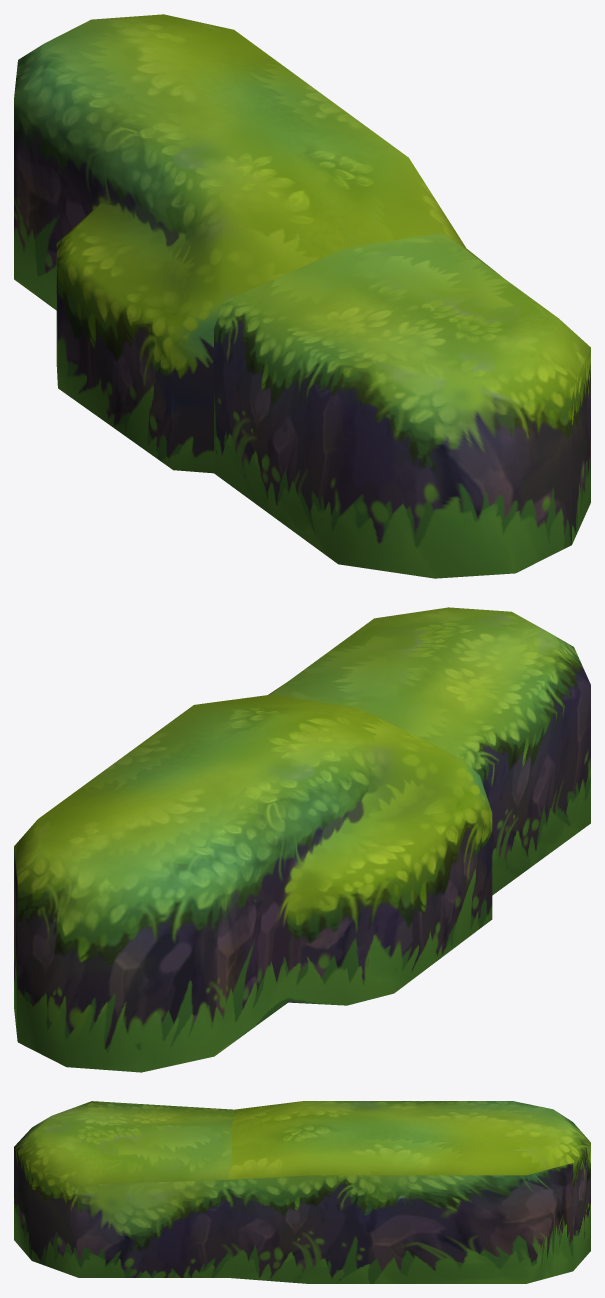
File: scenes_demo_roadside01.FBX
3 views of the same model, one above another, from view 1: azimuth 30°, elevation 25°; view 2: azimuth 150°, elevation 25°; view 3: azimuth 270°, elevation 25° (orthographic). The views are drawn at different scales.
Visible parts, largest first — view 1: scenes_demo_roadside01; view 2: scenes_demo_roadside01; view 3: scenes_demo_roadside01.
Boxes of the visible parts, left/top/right/bottom form: scenes_demo_roadside01: left=14, top=14, right=590, bottom=578; scenes_demo_roadside01: left=14, top=607, right=590, bottom=1072; scenes_demo_roadside01: left=14, top=1101, right=590, bottom=1283.
Bounding box in the file's own units: 340 × 232 × 933.
